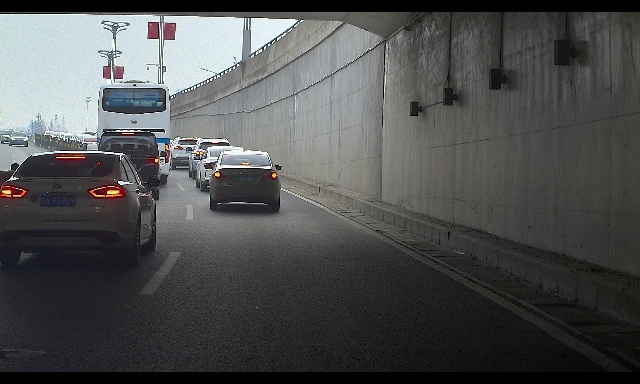bus: (97, 80, 171, 184)
car: (0, 150, 160, 266), (97, 130, 167, 200), (204, 150, 282, 211), (194, 146, 246, 192), (186, 138, 231, 180), (167, 137, 202, 170), (78, 137, 101, 153), (9, 131, 29, 147), (1, 130, 16, 143), (43, 131, 55, 141)
